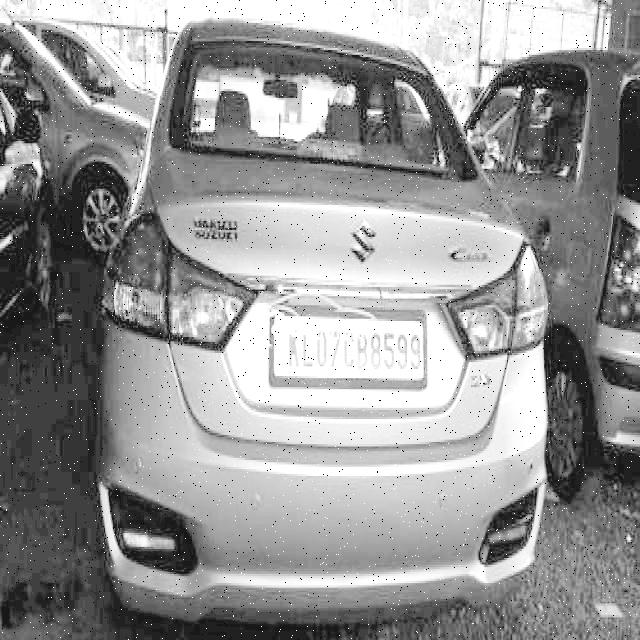Car: (124, 1, 545, 640)
